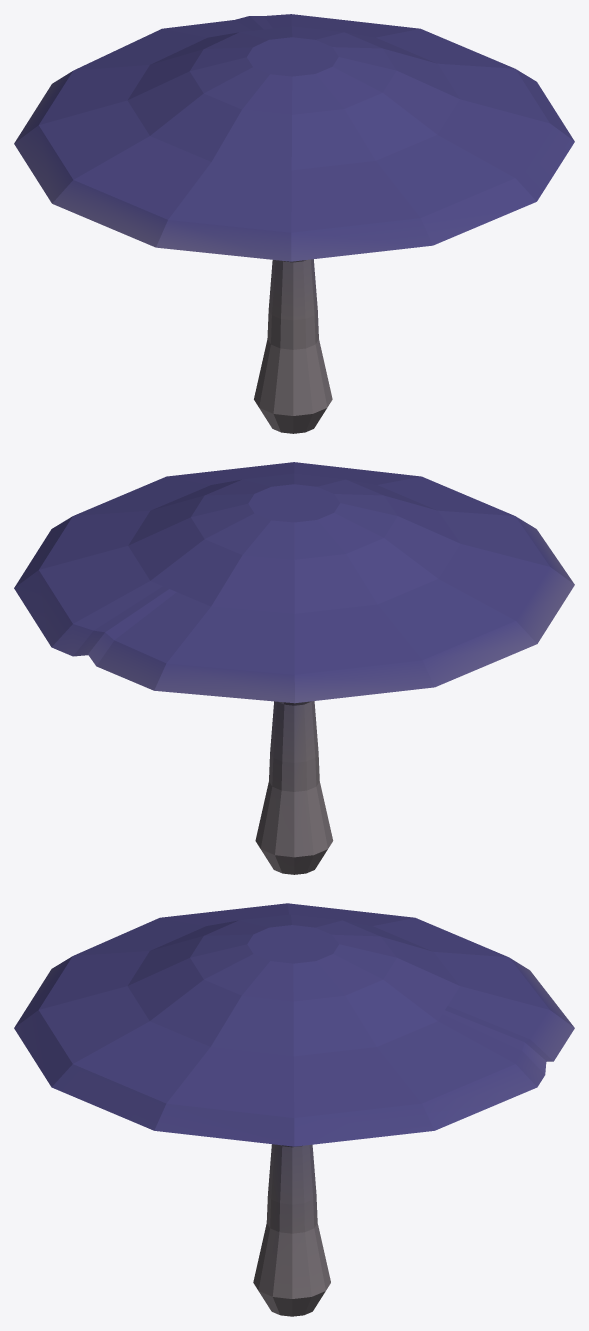
Rendered from grzybko.fbx.
The picture shows the model from 3 angles, top to bottom: view 1: azimuth 30°, elevation 25°; view 2: azimuth 150°, elevation 25°; view 3: azimuth 270°, elevation 25°; orthographic projection.
Parts seen in each view (by area): view 1: Cube; view 2: Cube; view 3: Cube.
Boxes of the visible parts, x1,y1,x2,y2 form: Cube: (14, 14, 574, 433); Cube: (14, 462, 574, 874); Cube: (14, 903, 574, 1316).
Bounding box in the file's own units: 70.45 × 50.5 × 70.88.
